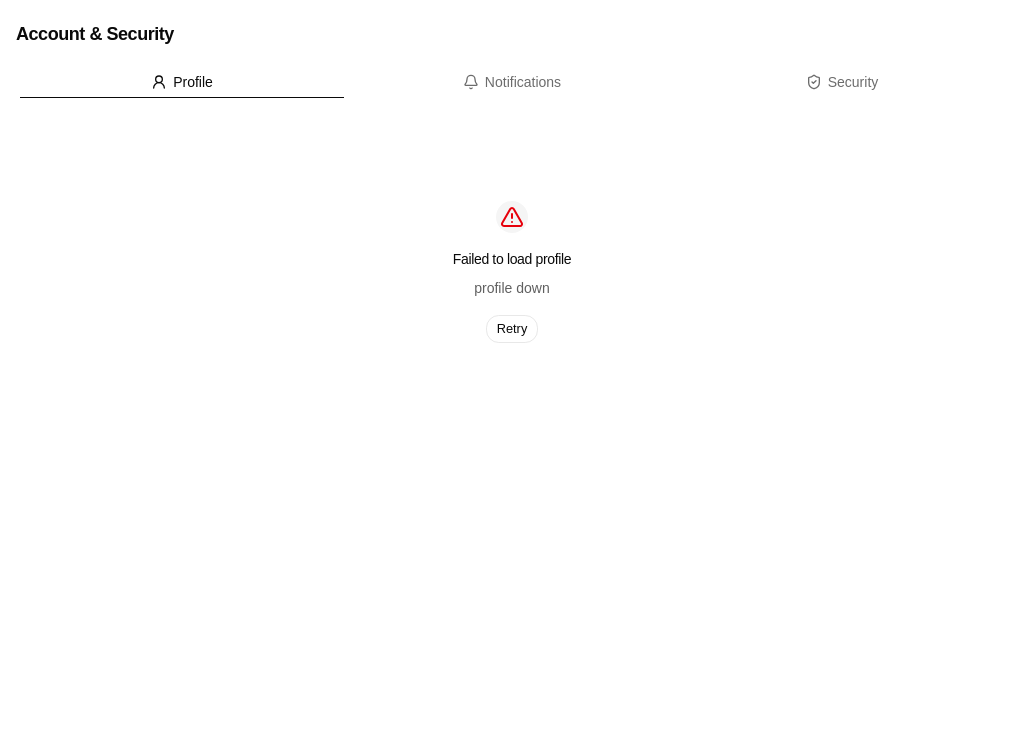
Test case: profile tab › surfaces a load failure with a retry
Check: the text "profile down" is shown, box [474, 277, 550, 299]
Click the button "Retry": [512, 329] box [486, 315, 538, 343]
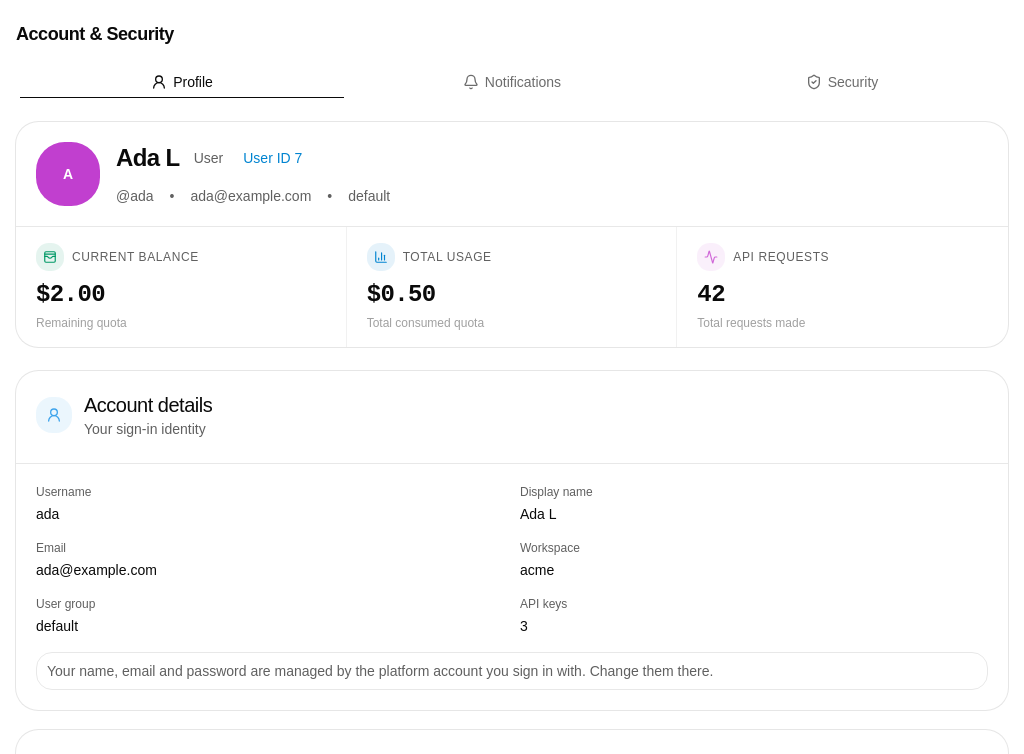
Check: the heading "Ada L" is shown, box [116, 142, 180, 174]
